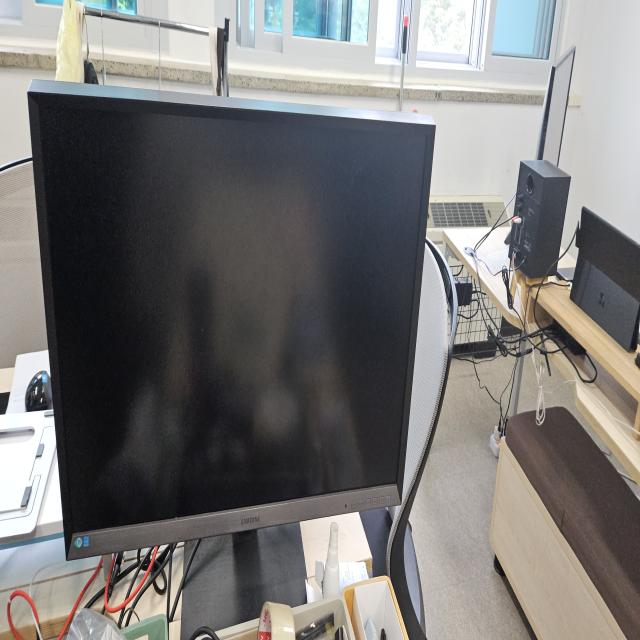Monitor: (26, 74, 438, 562)
